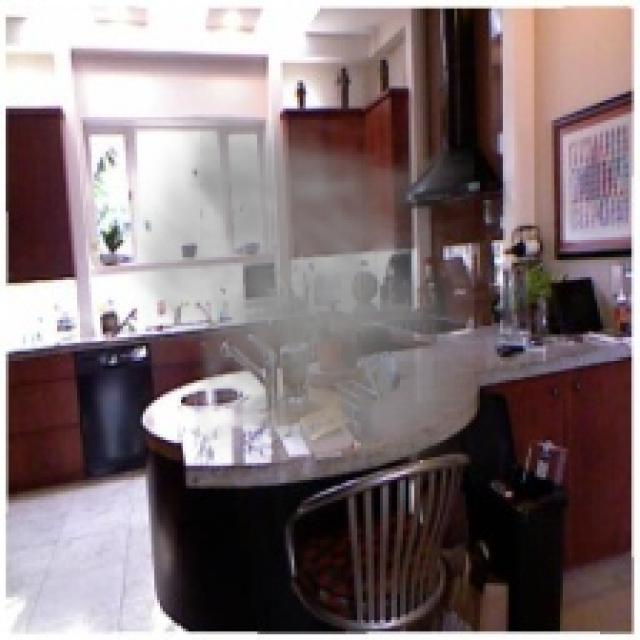smoke: (120, 114, 474, 463)
